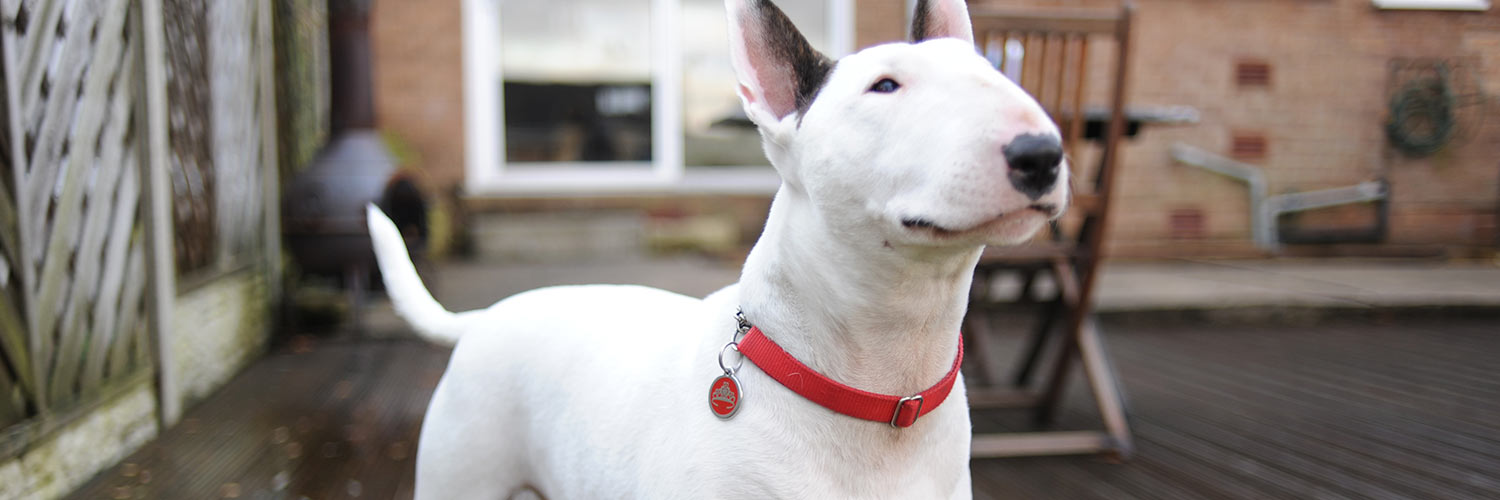bull_terrier: (366, 0, 1066, 500)
